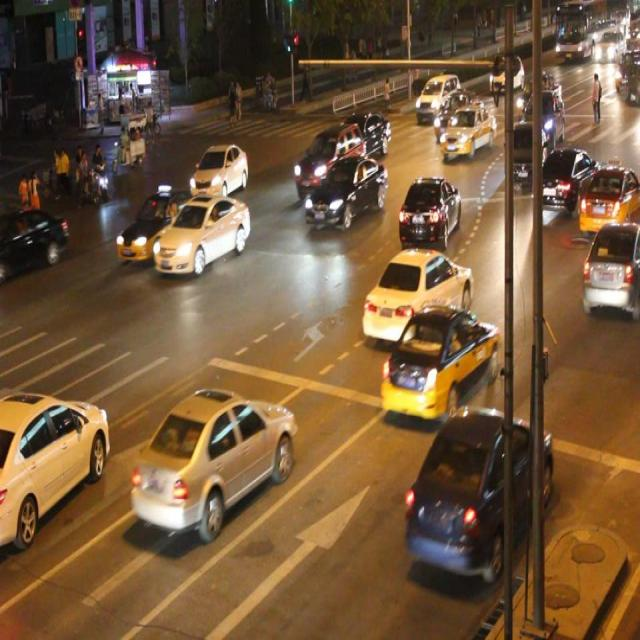car: (404, 405, 550, 575), (132, 386, 296, 536), (0, 390, 110, 524), (381, 307, 498, 420), (362, 245, 472, 339), (153, 193, 250, 274), (116, 190, 198, 262), (304, 156, 386, 227), (581, 222, 640, 314), (1, 205, 68, 282), (294, 124, 362, 196), (396, 175, 461, 245), (534, 146, 598, 213), (578, 164, 640, 232), (189, 142, 248, 199), (438, 103, 496, 157), (503, 120, 544, 184), (335, 110, 390, 156), (433, 92, 482, 138)
